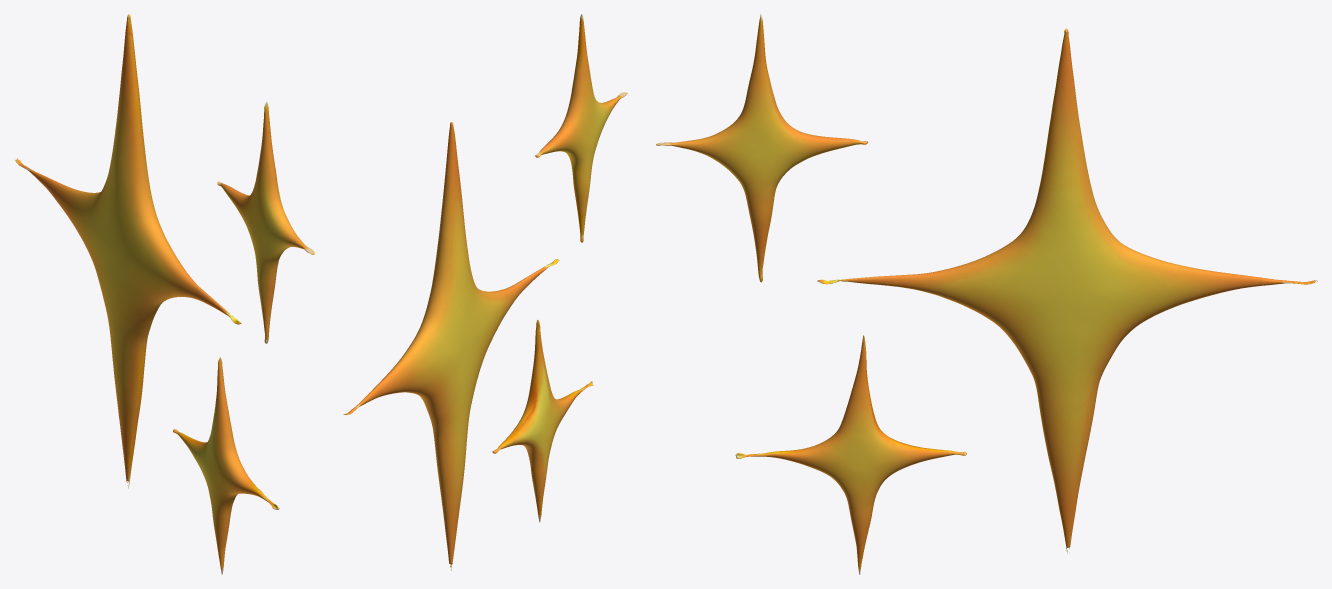
Rendered from sparkle.glb.
The picture shows the model from 3 angles, left to right: view 1: azimuth 30°, elevation 25°; view 2: azimuth 150°, elevation 25°; view 3: azimuth 270°, elevation 25°; orthographic projection. The views are drawn at different scales.
Visible parts, largest first — view 1: tripo_node_2343e392; view 2: tripo_node_2343e392; view 3: tripo_node_2343e392.
Part boxes in pixels (x1=…): tripo_node_2343e392: x1=14, y1=14, x2=314, y2=574; tripo_node_2343e392: x1=343, y1=14, x2=627, y2=570; tripo_node_2343e392: x1=656, y1=14, x2=1317, y2=574.
Bounding box in the file's own units: 0.0617 × 0.9333 × 0.9979.
Materials: 1 (1 with a texture image).
